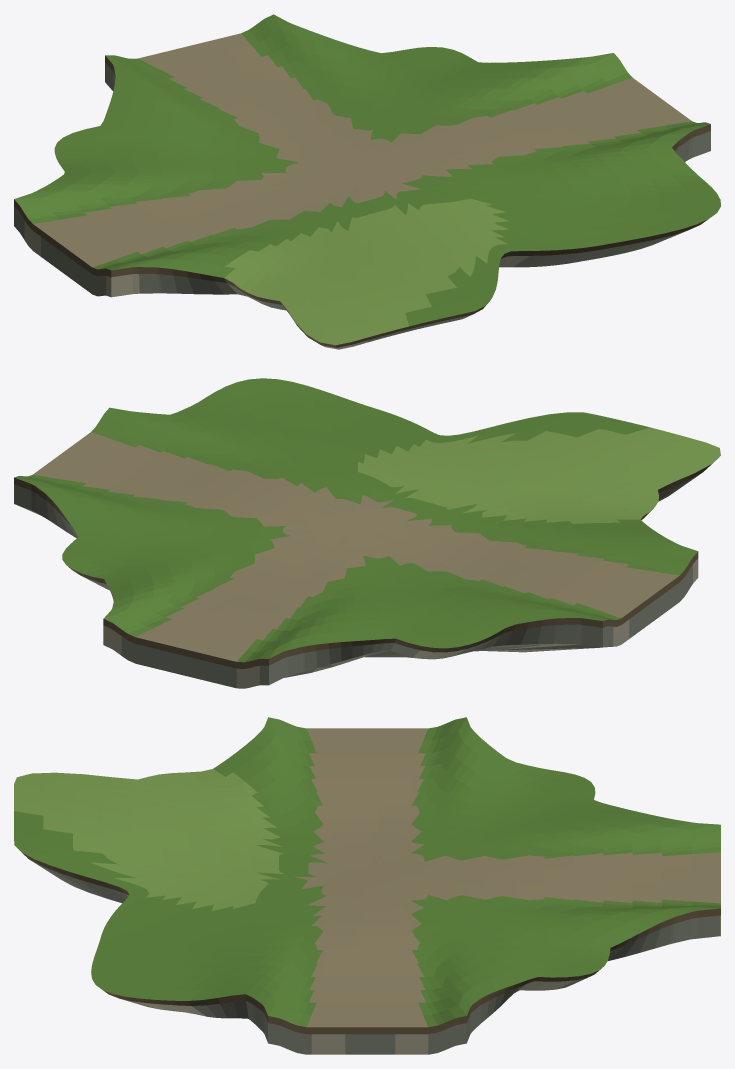
The model's file is path_split_meadow_structure.fbx.
3 views of the same model, one above another, from view 1: azimuth 30°, elevation 25°; view 2: azimuth 150°, elevation 25°; view 3: azimuth 270°, elevation 25° (orthographic). The views are drawn at different scales.
Visible parts, largest first — view 1: chunk_path_split_meadow; view 2: chunk_path_split_meadow; view 3: chunk_path_split_meadow.
Part boxes in pixels (bbox=[...]): chunk_path_split_meadow: bbox=[14, 14, 720, 349]; chunk_path_split_meadow: bbox=[14, 378, 720, 688]; chunk_path_split_meadow: bbox=[14, 717, 720, 1054].
Size of the model in its own units: 256 by 41.5 by 256.
